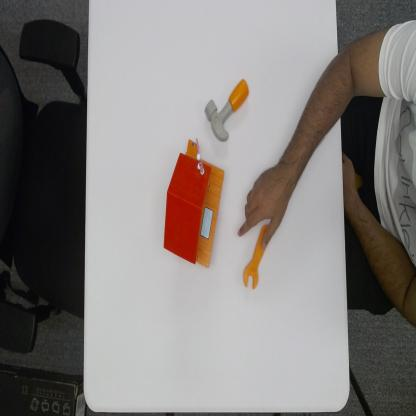Arm: (288, 55, 342, 178)
Hammer: (204, 76, 250, 141)
Hand: (236, 164, 289, 251)
House: (162, 138, 226, 270)
Screwdriver: (242, 224, 273, 289)
